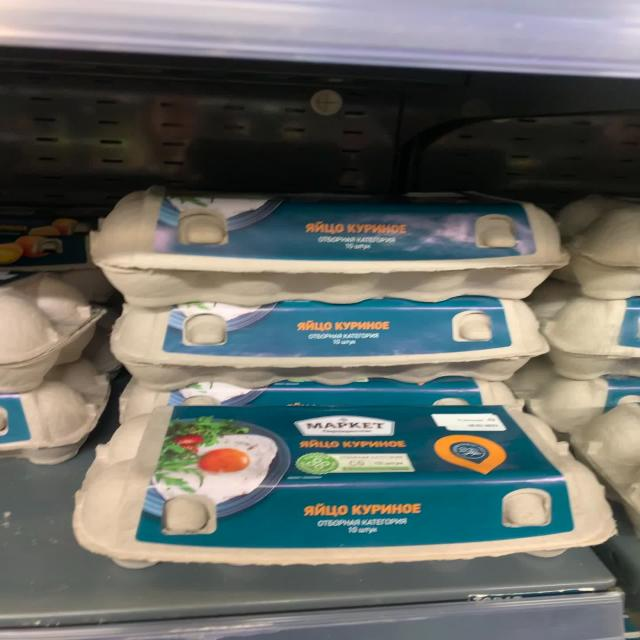egg box: (69, 409, 615, 568), (92, 180, 570, 304), (105, 286, 551, 386)
